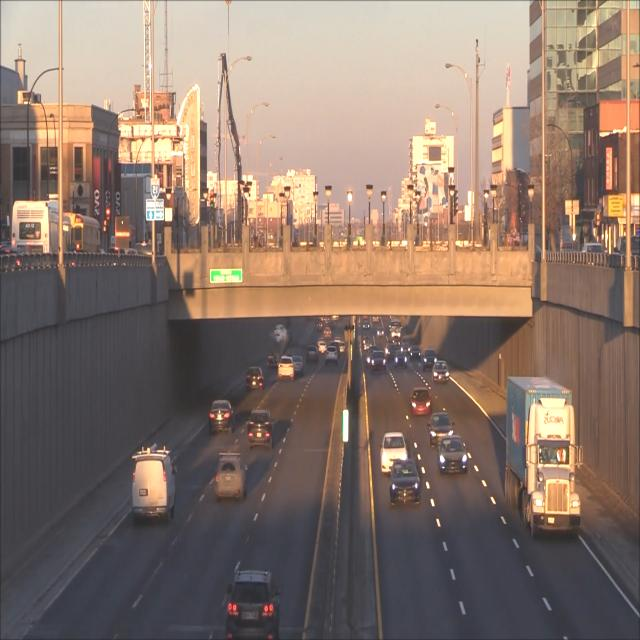Vehicle: (506, 377, 582, 540), (225, 569, 278, 640), (130, 447, 177, 523), (212, 450, 248, 504), (436, 435, 468, 478), (390, 461, 420, 506), (245, 407, 274, 452), (381, 431, 408, 474), (427, 408, 453, 444), (209, 399, 234, 436), (408, 388, 432, 417), (276, 354, 294, 382), (432, 361, 450, 384), (246, 368, 264, 390), (371, 348, 386, 374), (422, 349, 437, 372), (324, 346, 338, 366), (395, 350, 407, 370)
